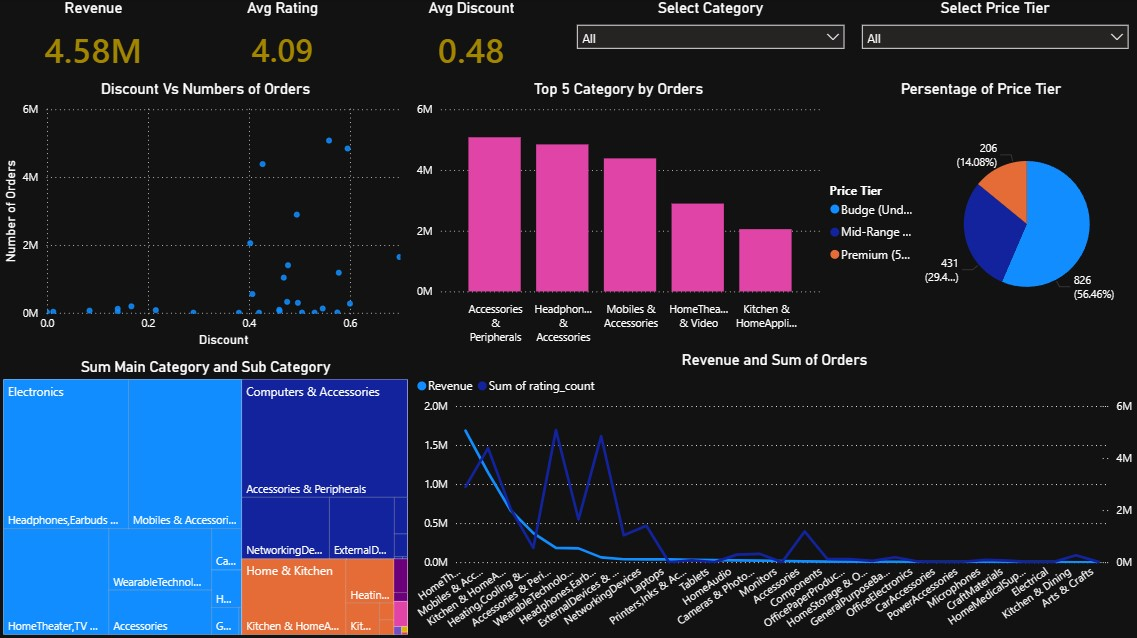

What the dashboard file says about the page in this screenshot:
{"tool":"powerbi","page":{"name":"Page 1","canvas":[1280,720],"ordinal":0},"visuals":[{"type":"cardVisual","title":"Revenue","fields":{"Data":["amazon_india_dashboard_ready.Revenue"]},"box":[0,0,212.6,91.1],"z":0},{"type":"cardVisual","title":"Avg Discount","fields":{"Data":["amazon_india_dashboard_ready.Avg Discount %"]},"box":[425.2,0,212.6,91.1],"z":1000},{"type":"cardVisual","title":"Avg Rating","fields":{"Data":["amazon_india_dashboard_ready.Avg Rating"]},"box":[212.6,0,212.6,91.1],"z":2000},{"type":"slicer","title":"Select Category","fields":{"Values":["amazon_india_dashboard_ready.main_category"]},"box":[640.1,0,320.6,91.1],"z":3000},{"type":"slicer","title":"Select Price Tier","fields":{"Values":["amazon_india_dashboard_ready.price_tier"]},"box":[960.8,0,319.5,91.1],"z":4000},{"type":"scatterChart","title":"Discount Vs Numbers of Orders","fields":{"X":["amazon_india_dashboard_ready.Avg Discount %"],"Y":["amazon_india_dashboard_ready.rating_count"],"Category":["amazon_india_dashboard_ready.sub_category"]},"box":[0,91.1,464.6,304.9],"z":5000},{"type":"columnChart","title":"Top 5 Category by Orders","fields":{"Category":["amazon_india_dashboard_ready.sub_category"],"Y":["Sum(amazon_india_dashboard_ready.rating_count)"]},"box":[464.6,91.1,464.6,304.9],"z":6000},{"type":"pieChart","title":"Persentage of Price Tier  ","fields":{"Category":["amazon_india_dashboard_ready.price_tier"],"Y":["CountNonNull(amazon_india_dashboard_ready.price_tier)"]},"box":[929.2,91.1,351,304.9],"z":7000},{"type":"treemap","title":"Sum Main Category and Sub Category","fields":{"Details":["amazon_india_dashboard_ready.sub_category"],"Group":["amazon_india_dashboard_ready.main_category"],"Values":["Sum(amazon_india_dashboard_ready.rating_count)"]},"box":[0,403.9,464.6,316.1],"z":7001},{"type":"lineChart","title":"Revenue and Sum of Orders","fields":{"Y2":["Sum(amazon_india_dashboard_ready.rating_count)"],"Y":["amazon_india_dashboard_ready.Revenue"],"Category":["amazon_india_dashboard_ready.sub_category"]},"box":[464.6,396,815.6,324],"z":7002}]}

Visuals, with their boxes in screenshot pixels (x1, y1, x2, y2), scaled from the page's 1280x720 canvas onto the 1137x638 screenshot:
"Revenue" cardVisual: {"x1": 0, "y1": 0, "x2": 189, "y2": 81}
"Avg Discount" cardVisual: {"x1": 378, "y1": 0, "x2": 567, "y2": 81}
"Avg Rating" cardVisual: {"x1": 189, "y1": 0, "x2": 378, "y2": 81}
"Select Category" slicer: {"x1": 569, "y1": 0, "x2": 853, "y2": 81}
"Select Price Tier" slicer: {"x1": 853, "y1": 0, "x2": 1136, "y2": 81}
"Discount Vs Numbers of Orders" scatterChart: {"x1": 0, "y1": 81, "x2": 413, "y2": 351}
"Top 5 Category by Orders" columnChart: {"x1": 413, "y1": 81, "x2": 825, "y2": 351}
"Persentage of Price Tier  " pieChart: {"x1": 825, "y1": 81, "x2": 1136, "y2": 351}
"Sum Main Category and Sub Category" treemap: {"x1": 0, "y1": 358, "x2": 413, "y2": 637}
"Revenue and Sum of Orders" lineChart: {"x1": 413, "y1": 351, "x2": 1136, "y2": 637}
